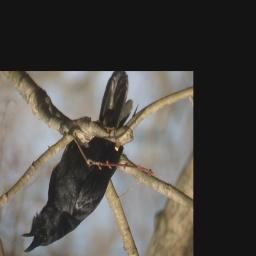Crow: (19, 72, 135, 256)
